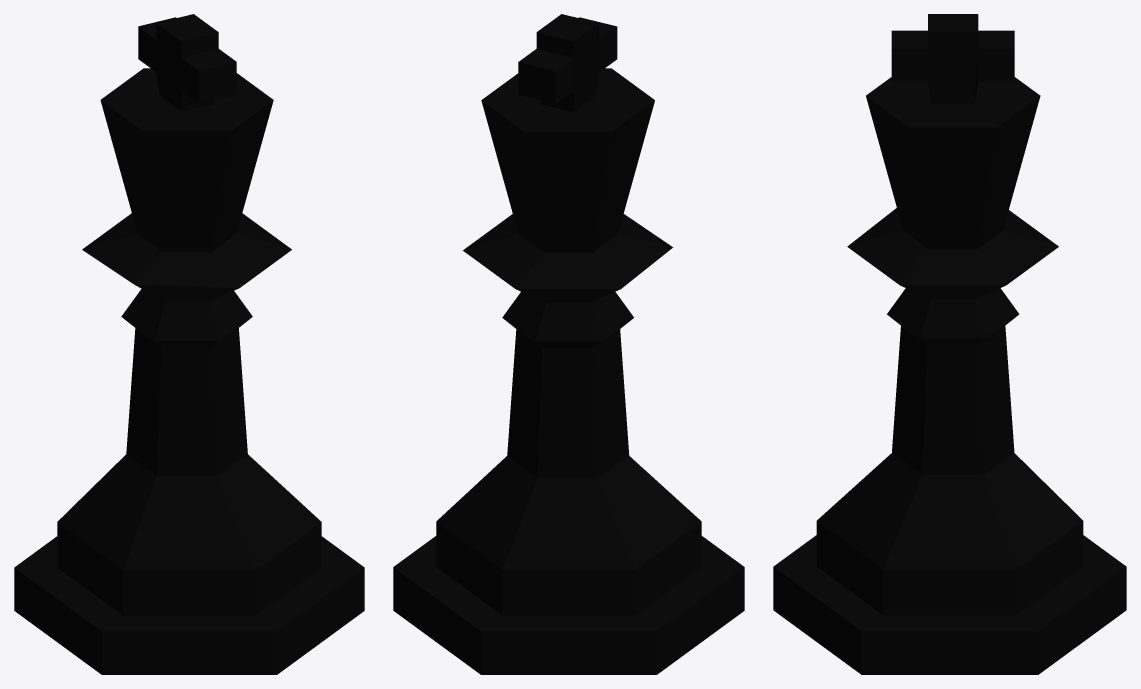
The model's file is chesspieceking02.obj.
3 views of the same model, side by side, from view 1: azimuth 30°, elevation 25°; view 2: azimuth 150°, elevation 25°; view 3: azimuth 270°, elevation 25° (orthographic).
Visible parts, largest first — view 1: Cylinder.004; view 2: Cylinder.004; view 3: Cylinder.004.
Boxes of the visible parts, x1=… form: Cylinder.004: x1=14, y1=14, x2=364, y2=674; Cylinder.004: x1=393, y1=14, x2=744, y2=674; Cylinder.004: x1=773, y1=14, x2=1126, y2=674.
Bounding box in the file's own units: 0.0225 × 0.0477 × 0.026.
